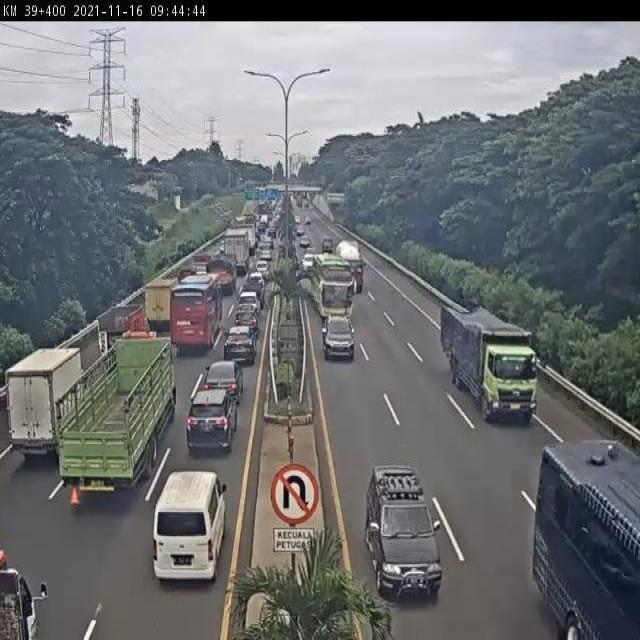car: (365, 467, 442, 600), (188, 387, 236, 451), (204, 361, 245, 403), (321, 312, 355, 360), (221, 329, 253, 368), (232, 308, 259, 335), (236, 288, 261, 316)
truck: (59, 340, 184, 497), (438, 301, 541, 419), (1, 351, 82, 459), (153, 471, 225, 581), (167, 272, 217, 352), (311, 258, 354, 322), (95, 303, 150, 353), (143, 278, 177, 334), (198, 259, 234, 299)
